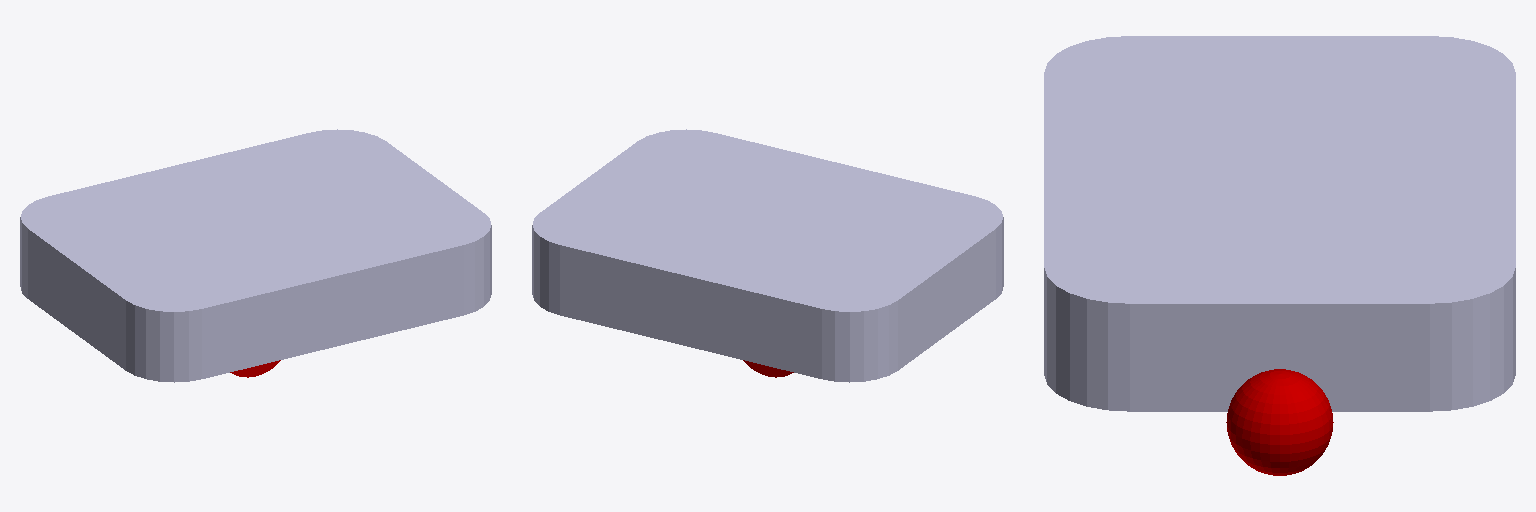
robot.urdf — albert:
<?xml version="1.0" encoding="utf-8"?>
<!-- =================================================================================== -->
<!-- |    This document was autogenerated by xacro from mmrobot.urdf.xacro             | -->
<!-- |    EDITING THIS FILE BY HAND IS NOT RECOMMENDED                                 | -->
<!-- =================================================================================== -->
<robot name="albert">
  <material name="Boxer_Black">
    <color rgba="0.1 0.1 0.1 1.0"/>
  </material>
  <material name="Boxer_Blue">
    <color rgba="0.0 0.0 0.8 1.0"/>
  </material>
  <material name="Boxer_Purple">
    <color rgba="0.6 0.0 0.6 1.0"/>
  </material>
  <material name="Boxer_Green">
    <color rgba="0.0 0.8 0.0 1.0"/>
  </material>
  <material name="Boxer_LimeGreen">
    <color rgba="0.3 0.8 0.3 1.0"/>
  </material>
  <material name="Boxer_Grey">
    <color rgba="0.5 0.5 0.5 1.0"/>
  </material>
  <material name="Boxer_DarkGrey">
    <color rgba="0.3 0.3 0.3 1.0"/>
  </material>
  <material name="Boxer_Red">
    <color rgba="0.8 0.0 0.0 1.0"/>
  </material>
  <material name="Boxer_Pink">
    <color rgba="0.8 0.4 0.8 1.0"/>
  </material>
  <material name="Boxer_White">
    <color rgba="1.0 1.0 1.0 1.0"/>
  </material>
  <material name="Boxer_Yellow">
    <color rgba="0.8 0.8 0.0 1.0"/>
  </material>
  <material name="Boxer_GreyTransparent">
    <color rgba="0.5 0.5 0.5 0.5"/>
  </material>
  <link name="chassis_link">
    <inertial>
      <origin rpy="0 0 0" xyz="0 0 0.07"/>
      <mass value="250"/>
      <inertia ixx="2.3" ixy="0" ixz="0" iyy="3.35" iyz="0.00" izz="1.22"/>
    </inertial>
    <visual>
      <origin rpy="0 0 0" xyz="0 0 0"/>
      <geometry>
        <mesh filename="meshes/visual/chassis_link.dae"/>
      </geometry>
      <material name="">
        <color rgba="0.8 0.8 0.9 1"/>
      </material>
    </visual>
    <collision>
      <origin rpy="0 0 0" xyz="0 0 0"/>
      <geometry>
        <mesh filename="meshes/collision/chassis_link.STL"/>
      </geometry>
    </collision>
  </link>
  <!-- 0.27 in z direction because extrusion is 0.30, and plate is 0.1 -->
  <link name="rotacastor_right_link">
    <inertial>
      <origin rpy="0 0 0" xyz="0 0 0"/>
      <mass value="1"/>
      <inertia ixx="0.2" ixy="0" ixz="0" iyy="0.2" iyz="0" izz="0.2"/>
    </inertial>
    <visual>
      <origin rpy="0 1.5708 0" xyz="0 0 0"/>
      <geometry>
        <cylinder length="0.06" radius="0.0625"/>
      </geometry>
      <material name="Boxer_Red"/>
    </visual>
    <collision>
      <origin rpy="0 1.5708 0" xyz="0 0 0"/>
      <geometry>
        <cylinder length="0.001" radius="0.0625"/>
      </geometry>
    </collision>
  </link>
  <joint name="rotacastor_right_joint" type="continuous">
    <origin rpy="0 0 0" xyz="-0.177 -0.274 0.043"/>
    <parent link="chassis_link"/>
    <child link="rotacastor_right_link"/>
    <axis xyz="1 0 0"/>
    <dynamics damping="1.0"/>
  </joint>
  <link name="rotacastor_left_link">
    <inertial>
      <origin rpy="0 0 0" xyz="0 0 0"/>
      <mass value="1"/>
      <inertia ixx="0.2" ixy="0" ixz="0" iyy="0.2" iyz="0" izz="0.2"/>
    </inertial>
    <visual>
      <origin rpy="0 1.5708 0" xyz="0 0 0"/>
      <geometry>
        <cylinder length="0.06" radius="0.0625"/>
      </geometry>
      <material name="Boxer_Red"/>
    </visual>
    <collision>
      <origin rpy="0 1.5708 0" xyz="0 0 0"/>
      <geometry>
        <cylinder length="0.001" radius="0.0625"/>
      </geometry>
    </collision>
  </link>
  <joint name="rotacastor_left_joint" type="continuous">
    <origin rpy="0 0 0" xyz="0.177 -0.274 0.043"/>
    <parent link="chassis_link"/>
    <child link="rotacastor_left_link"/>
    <axis xyz="1 0 0"/>
    <dynamics damping="1.0"/>
  </joint>
  <link name="wheel_right_link">
    <inertial>
      <origin rpy="0 0 0" xyz="0 0 0"/>
      <mass value="10"/>
      <inertia ixx="0.2" ixy="0" ixz="0" iyy="0.2" iyz="0" izz="0.2"/>
    </inertial>
    <visual>
      <origin rpy="0 1.5708 0" xyz="0 0 0"/>
      <geometry>
        <cylinder length="0.05" radius="0.080"/>
      </geometry>
      <material name="Boxer_Red"/>
    </visual>
    <collision>
      <origin rpy="0 1.5708 0" xyz="0 0 0"/>
      <geometry>
        <cylinder length="0.001" radius="0.080"/>
      </geometry>
    </collision>
  </link>
  <joint name="wheel_right_joint" type="continuous">
    <origin rpy="0 0 0" xyz="-0.247 0.157 0.058"/>
    <parent link="chassis_link"/>
    <child link="wheel_right_link"/>
    <axis xyz="1 0 0"/>
    <limit effort="10000" velocity="1000"/>
    <dynamics damping="1.0"/>
  </joint>
  <link name="wheel_left_link">
    <inertial>
      <origin rpy="0 0 0" xyz="0 0 0"/>
      <mass value="10"/>
      <inertia ixx="0.2" ixy="0" ixz="0" iyy="0.2" iyz="0" izz="0.2"/>
    </inertial>
    <visual>
      <origin rpy="0 1.5708 0" xyz="0 0 0"/>
      <geometry>
        <cylinder length="0.05" radius="0.080"/>
      </geometry>
      <material name="Boxer_Red"/>
    </visual>
    <collision>
      <origin rpy="0 1.5708 0" xyz="0 0 0"/>
      <geometry>
        <cylinder length="0.001" radius="0.080"/>
      </geometry>
    </collision>
  </link>
  <joint name="wheel_left_joint" type="continuous">
    <origin rpy="0 0 0" xyz="0.247 0.157 0.058"/>
    <parent link="chassis_link"/>
    <child link="wheel_left_link"/>
    <axis xyz="1 0 0"/>
    <limit effort="10000" velocity="1000"/>
    <dynamics damping="1.0"/>
  </joint>
  <!-- Base link with no geometry or inertia, because KDL needs it
to be that way. -->
  <link name="base_link_ori">
    <inertial>
      <origin rpy="0 0 0" xyz="0 0 0"/>
      <mass value="0.001"/>
      <inertia ixx="0.2" ixy="0" ixz="0" iyy="0.2" iyz="0" izz="0.2"/>
    </inertial>
  </link>
  <link name="base_link">
    <inertial>
      <origin rpy="0 0 0" xyz="0 0 0"/>
      <mass value="1"/>
      <inertia ixx="0.2" ixy="0" ixz="0" iyy="0.2" iyz="0" izz="0.2"/>
    </inertial>
  </link>
  <joint name="base_chassis_joint" type="fixed">
    <origin rpy="0 0 0" xyz="0 0 0"/>
    <parent link="base_link"/>
    <child link="chassis_link"/>
  </joint>
  <link name="ee_link">
    <visual>
      <origin rpy="0 0 0" xyz="0 0 0"/>
      <geometry>
        <sphere radius="0.0625"/>
      </geometry>
      <material name="Boxer_Red"/>
    </visual>
  </link>
  <joint name="ee_joint" type="fixed">
    <origin rpy="0 0 0" xyz="0 -0.4 0"/>
    <parent link="base_link"/>
    <child link="ee_link"/>
  </joint>
  <joint name="base_add_orientation" type="fixed">
    <origin rpy="0 0 1.57079" xyz="0.0 0 0"/>
    <parent link="base_link_ori"/>
    <child link="base_link"/>
  </joint>
  <!-- end for simulation -->
</robot>

--- Facts derived from the render (not from the file) ---
Views: 3 orthographic renders of the robot side by side, from view 1: azimuth 30°, elevation 25°; view 2: azimuth 150°, elevation 25°; view 3: azimuth 270°, elevation 25°.
Robot: albert — 8 links, 7 joints (4 continuous, 3 fixed); root link base_link_ori; default pose: all joints at 0.
Visible links, largest first — view 1: chassis_link; view 2: chassis_link; view 3: chassis_link, ee_link.
Link boxes in pixels (x1,y1,x2,y2): chassis_link: (20, 129, 491, 382); chassis_link: (532, 129, 1003, 382); chassis_link: (1044, 36, 1515, 411); ee_link: (1226, 369, 1333, 475).
Bounding box of the posed robot: 0.8325 × 0.55 × 0.2015 m (x, y, z).
1 mesh visuals loaded from 1 distinct referenced files (1 Collada DAE).
